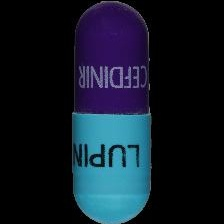43063-466: (0, 0, 224, 224)
